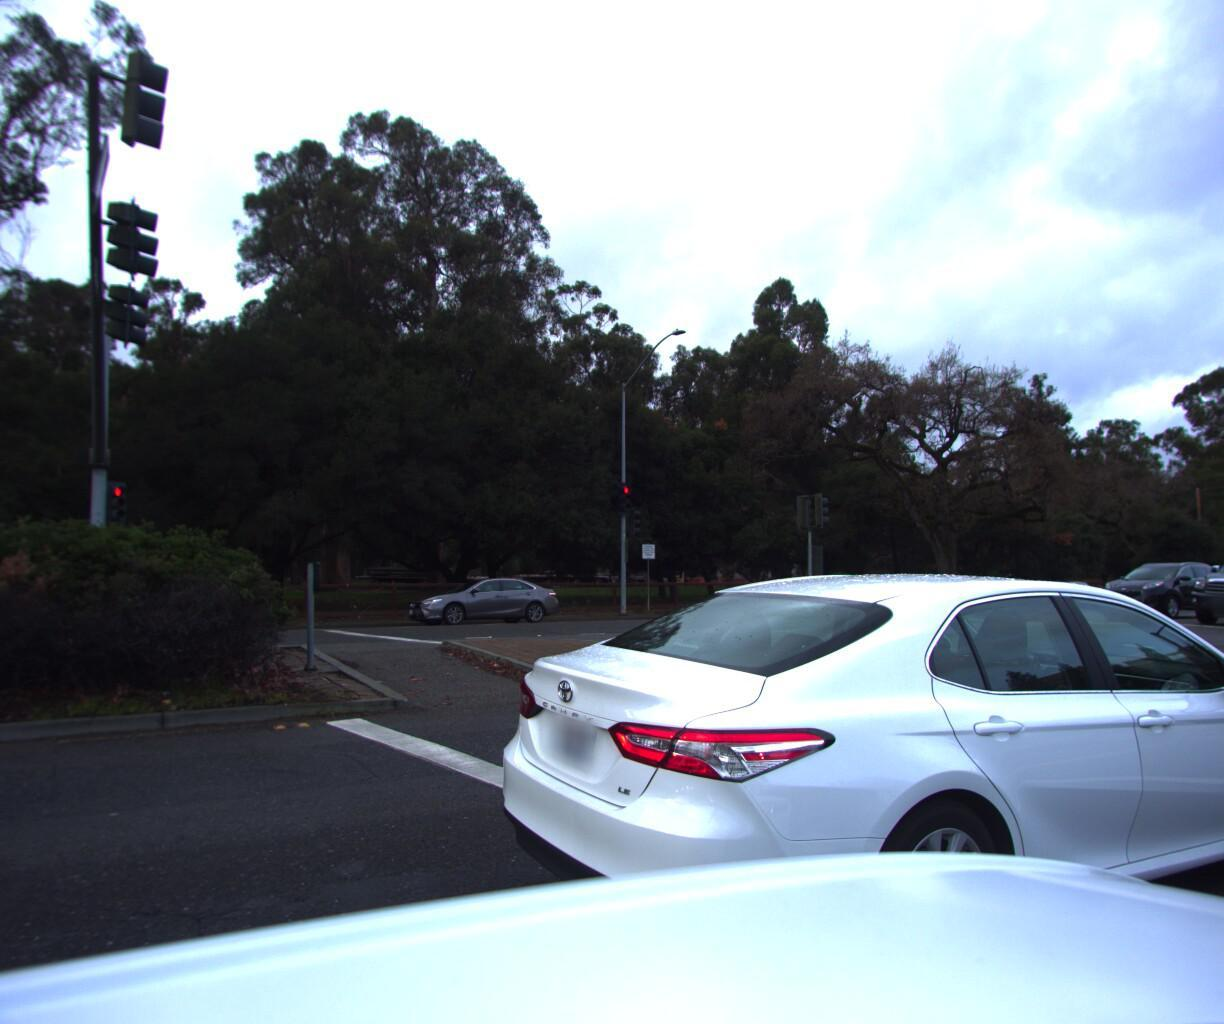car: (428, 558, 1224, 1024), (400, 580, 571, 633), (1084, 556, 1224, 619), (1172, 543, 1224, 626), (1008, 577, 1104, 609)
